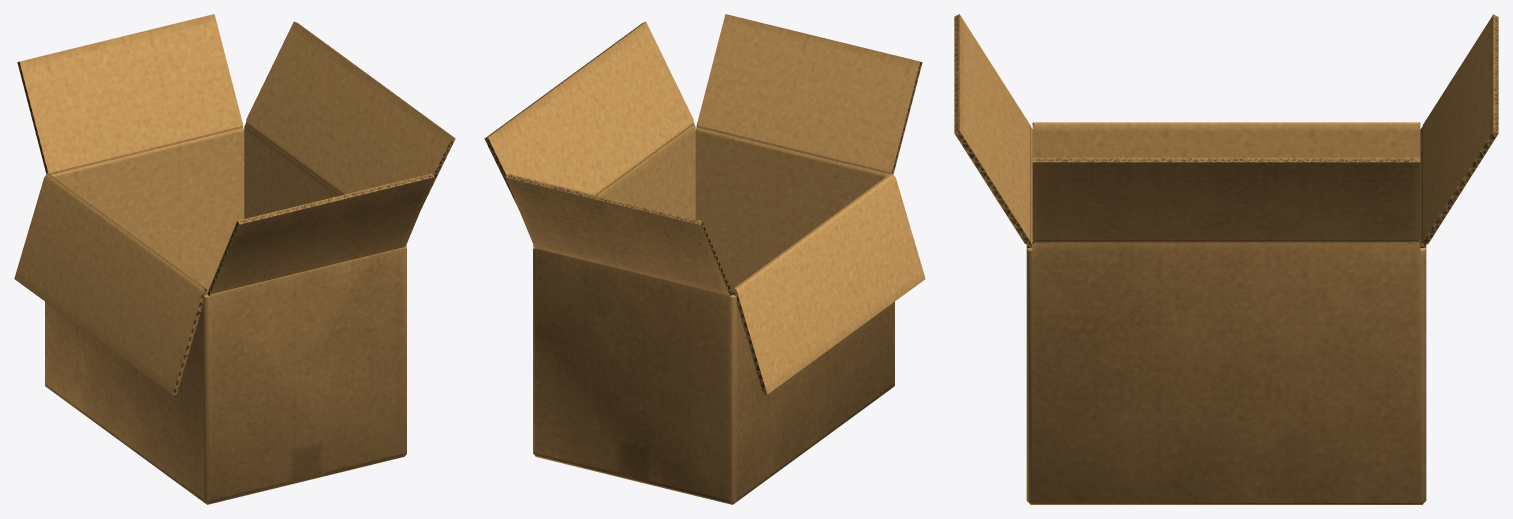
The model's file is CardBoard_Open.fbx.
The picture shows the model from 3 angles, left to right: view 1: azimuth 30°, elevation 25°; view 2: azimuth 150°, elevation 25°; view 3: azimuth 270°, elevation 25°; orthographic projection. The views are drawn at different scales.
Parts seen in each view (by area): view 1: CardBoard_Open; view 2: CardBoard_Open; view 3: CardBoard_Open.
Boxes of the visible parts, box(x1,y1,x2,y2) form: CardBoard_Open: box(14, 14, 455, 504); CardBoard_Open: box(484, 14, 925, 504); CardBoard_Open: box(954, 14, 1498, 504).
Bounding box in the file's own units: 0.5014 × 0.5196 × 0.6812.
